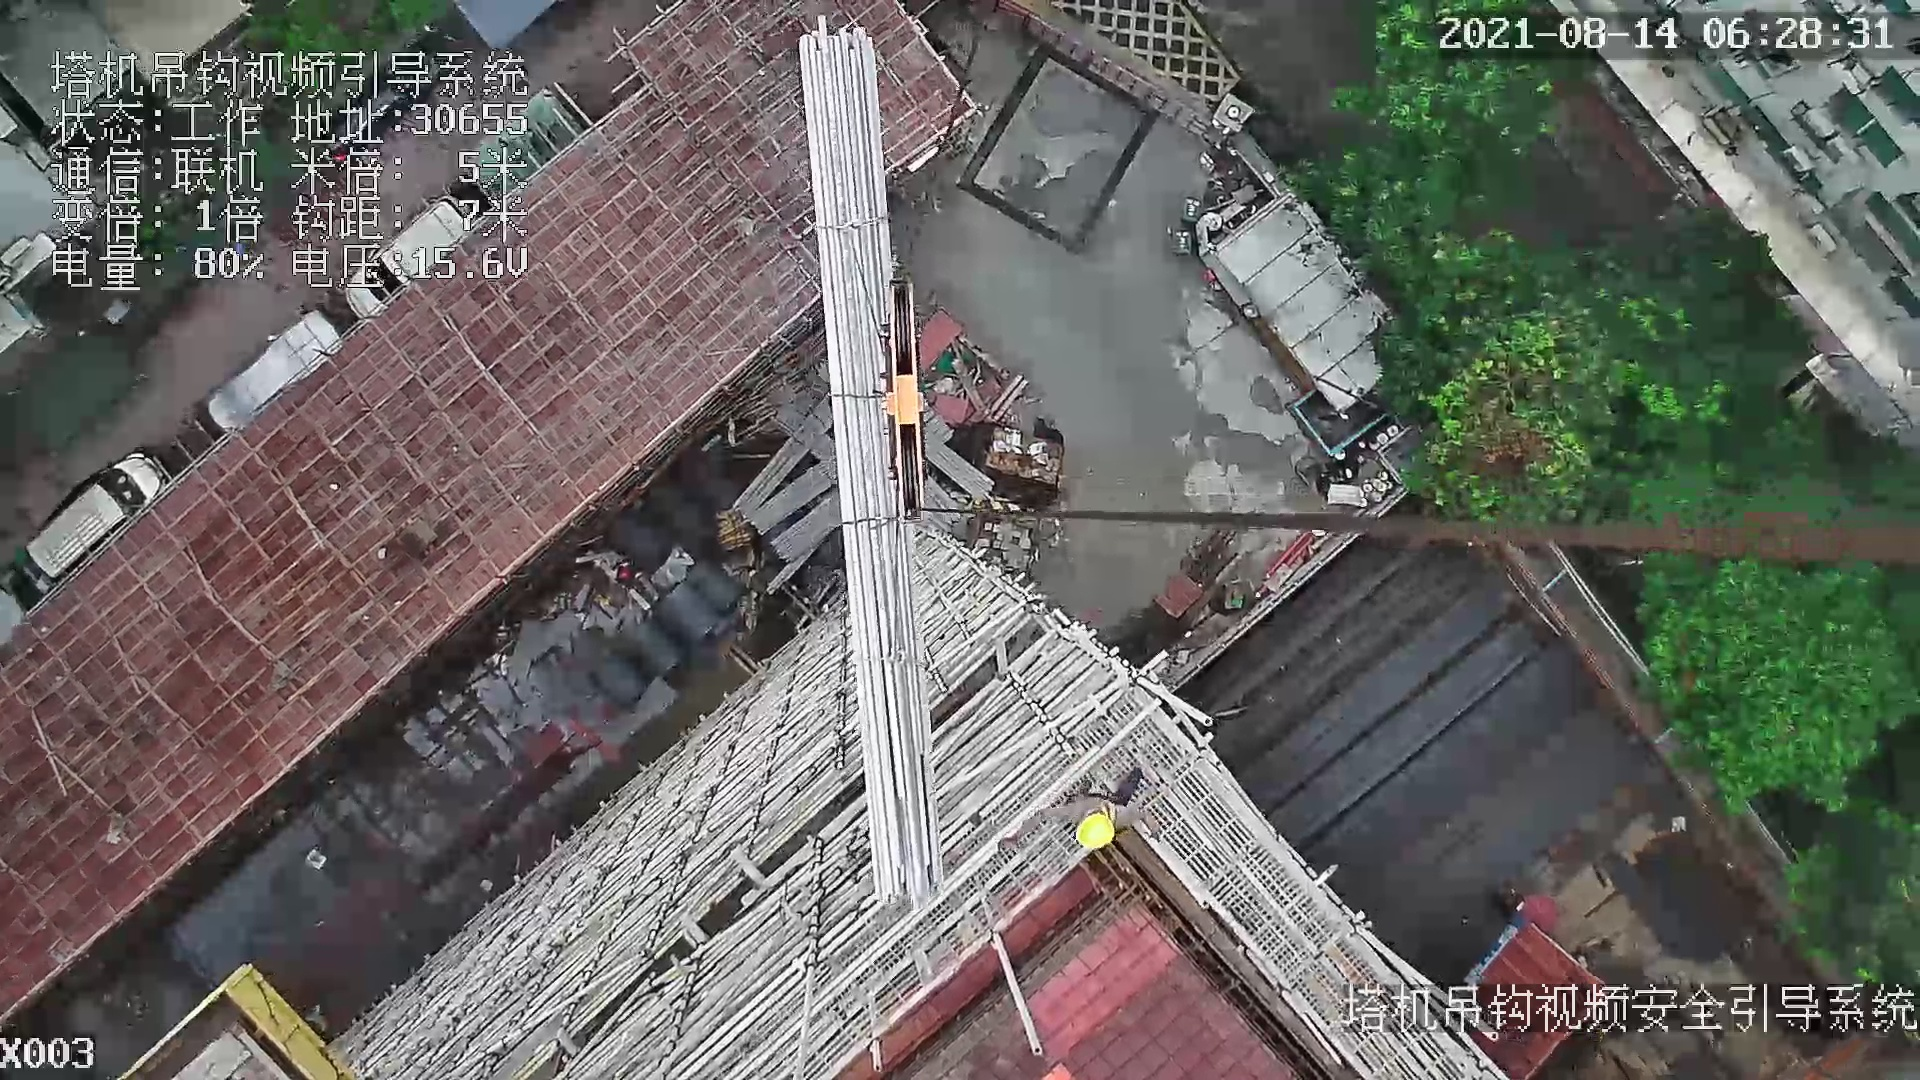helmet: (1068, 809, 1129, 855)
hook: (889, 278, 939, 526)
person: (1001, 779, 1164, 851)
